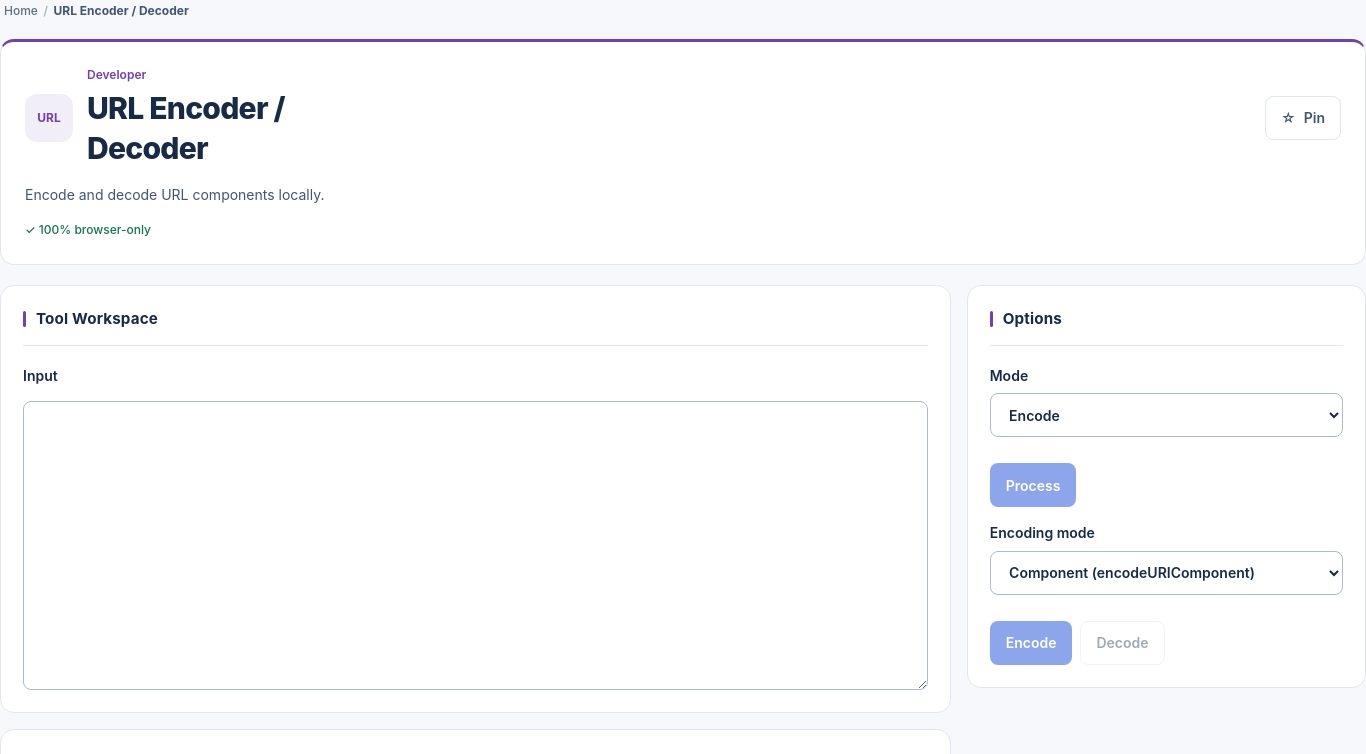
DeveloperToolsPage JSON samples › shows a shared accessible error for invalid URL encoding
The width and height of the screenshot is (1366, 754).
Type "%" into the text box labelled "Input" at (475, 546), box left=23, top=401, right=928, bottom=690
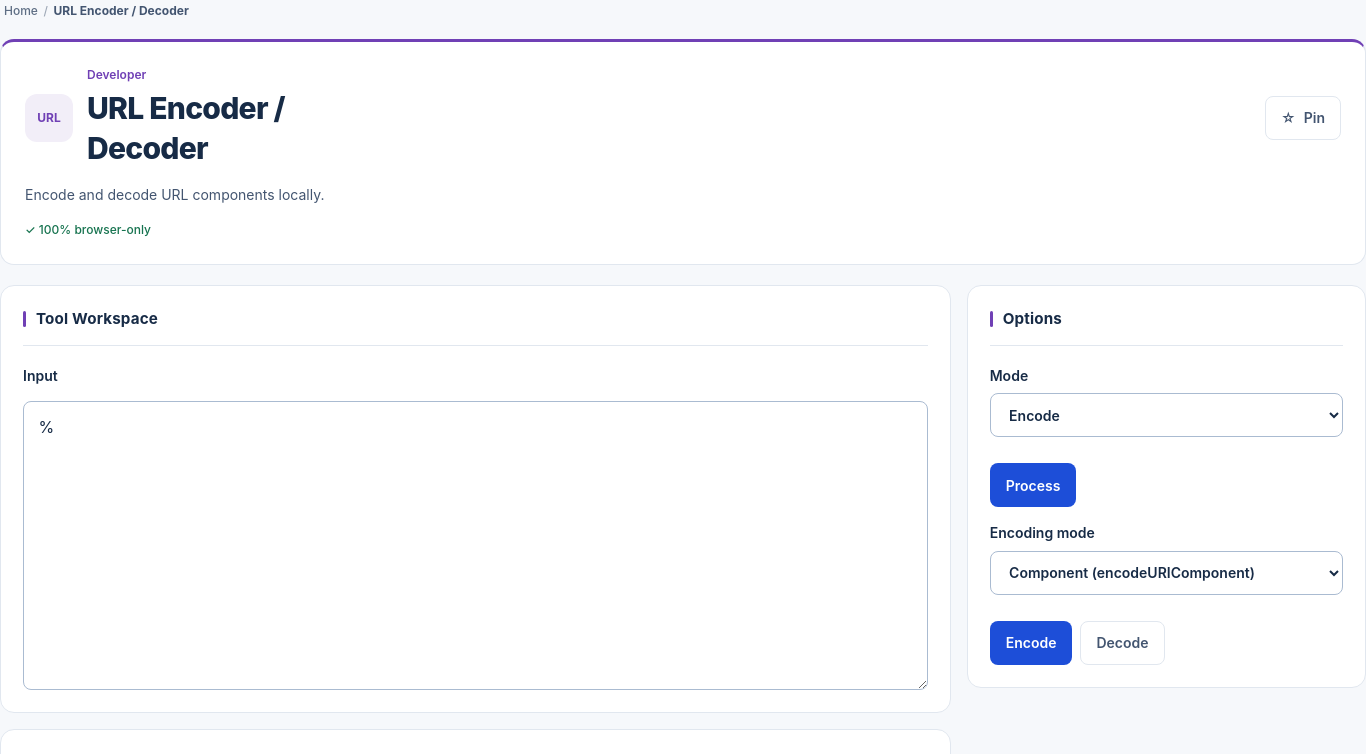
Select "Decode" in the dropdown labelled "Mode" at (1166, 415), box left=990, top=393, right=1343, bottom=437
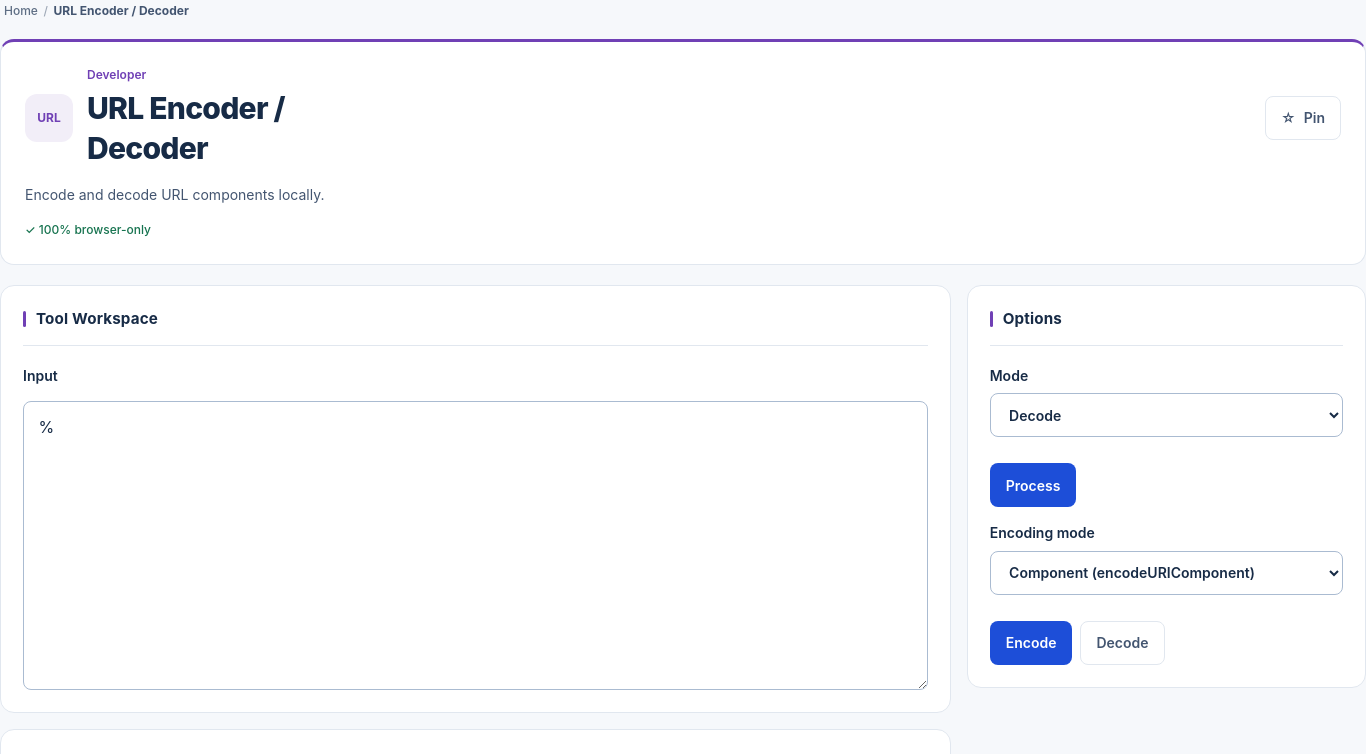
Click the button "Process" at (1033, 485), box left=990, top=463, right=1076, bottom=507
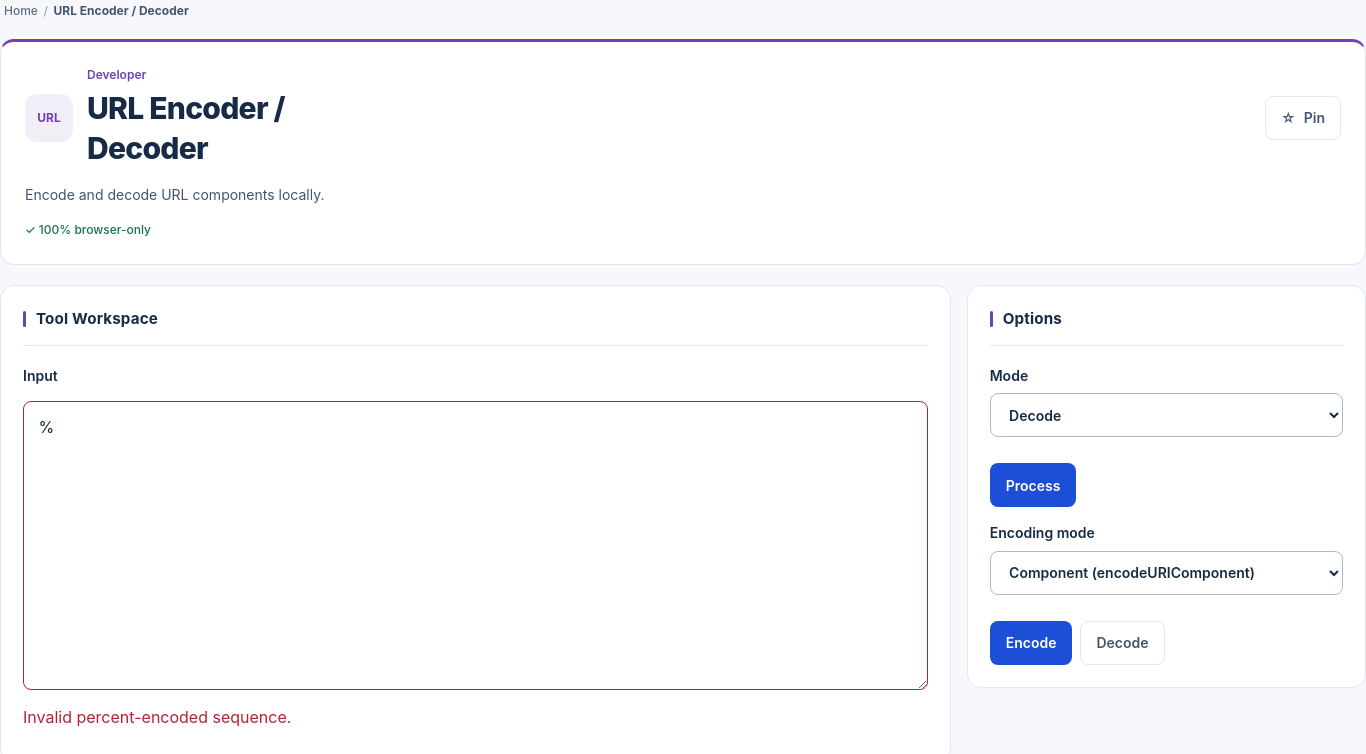
Check: the message reads "Invalid percent-encoded sequence.", box left=23, top=707, right=291, bottom=727
